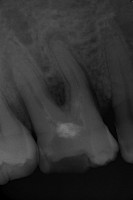Endo-Periodontal Lesion: (44, 72, 69, 107)
Furcation Involvement: (44, 28, 69, 49)
